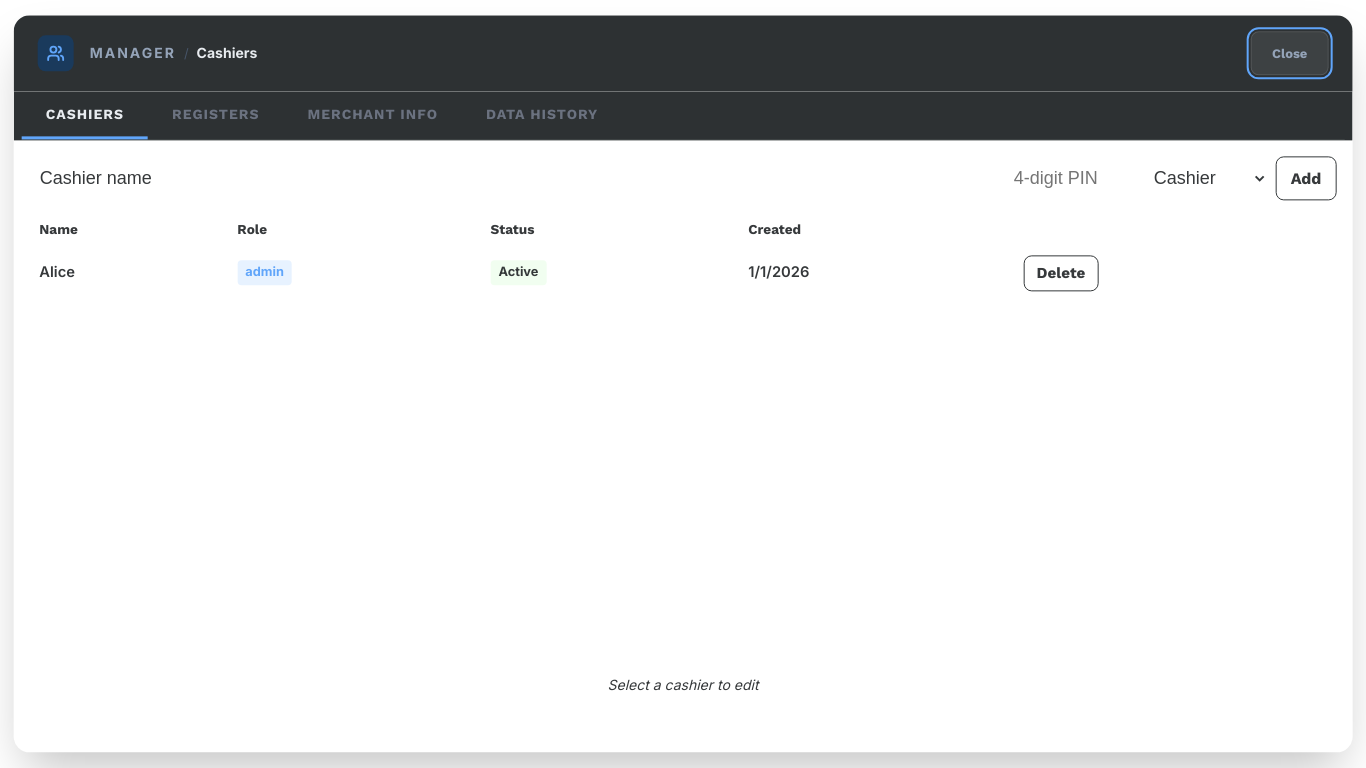
Scenario: ManagerModal › updates the header breadcrumb when tabs change
expect the text "Cashiers" is shown: met, box left=197, top=42, right=257, bottom=65
Click the tab "Data History" at point(542, 115), box left=462, top=91, right=622, bottom=139
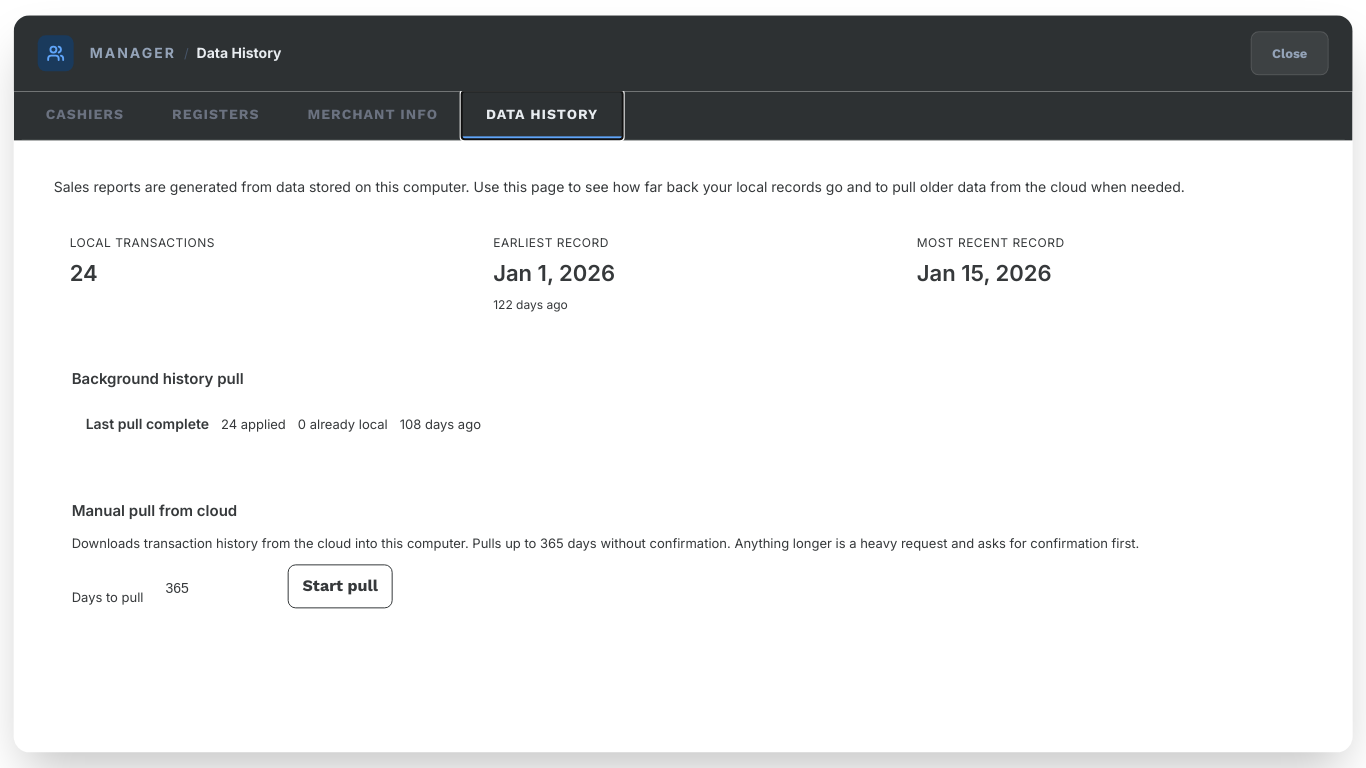
expect the text "Data History" is shown: met, box left=197, top=42, right=282, bottom=65
